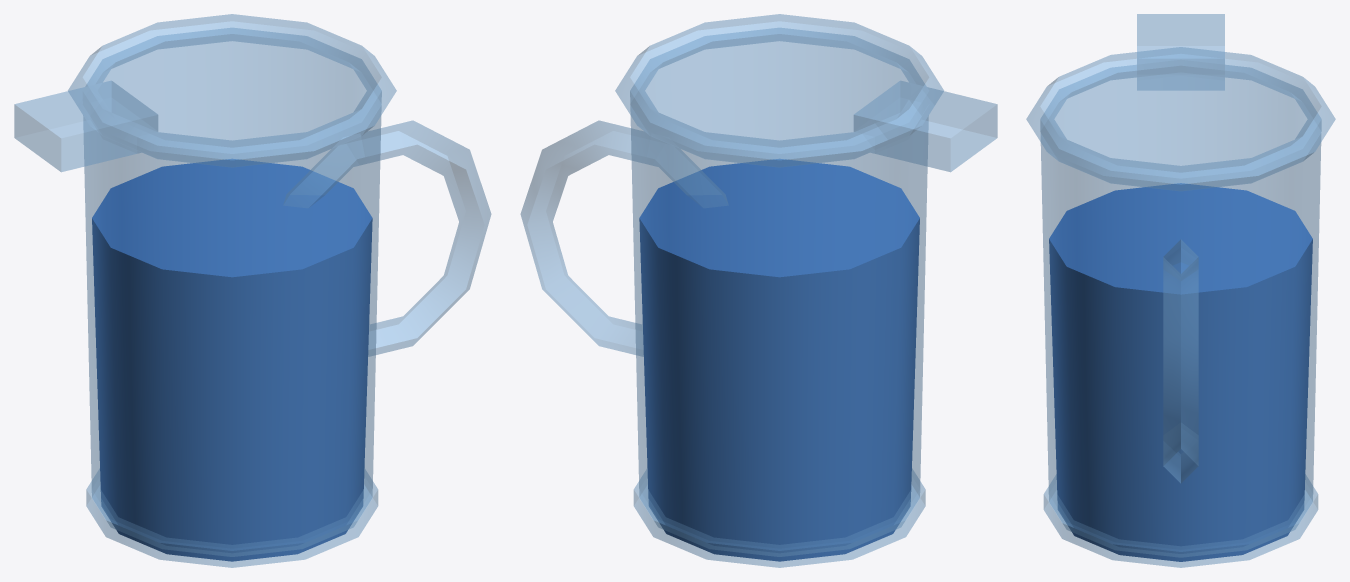
Rendered from tableware_pitcher.glb.
The picture shows the model from 3 angles, left to right: view 1: azimuth 30°, elevation 25°; view 2: azimuth 150°, elevation 25°; view 3: azimuth 270°, elevation 25°; orthographic projection. The views are drawn at different scales.
Parts seen in each view (by area): view 1: tableware_pitcher; view 2: tableware_pitcher; view 3: tableware_pitcher.
Boxes of the visible parts, <box> form: tableware_pitcher: <box>14,14,491,567</box>; tableware_pitcher: <box>520,14,997,567</box>; tableware_pitcher: <box>1026,14,1335,567</box>.
Bounding box in the file's own units: 0.28 × 0.255 × 0.176.
